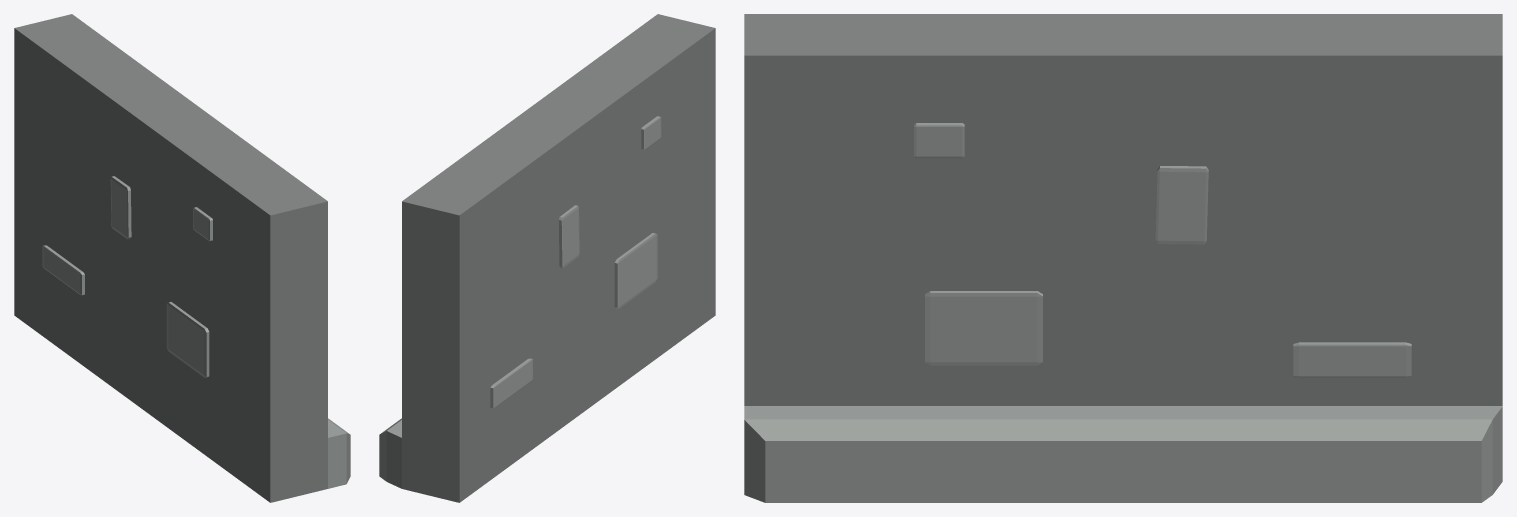
File: WallPiece2.fbx
3 views of the same model, side by side, from view 1: azimuth 30°, elevation 25°; view 2: azimuth 150°, elevation 25°; view 3: azimuth 270°, elevation 25° (orthographic). The views are drawn at different scales.
Visible parts, largest first — view 1: WallPiece2; view 2: WallPiece2; view 3: WallPiece2.
Part boxes in pixels (box(x1,y1,x2,y2)): WallPiece2: box(14, 14, 350, 502); WallPiece2: box(379, 14, 715, 502); WallPiece2: box(744, 14, 1502, 502).
Bounding box in the file's own units: 45.72 × 139 × 224.
